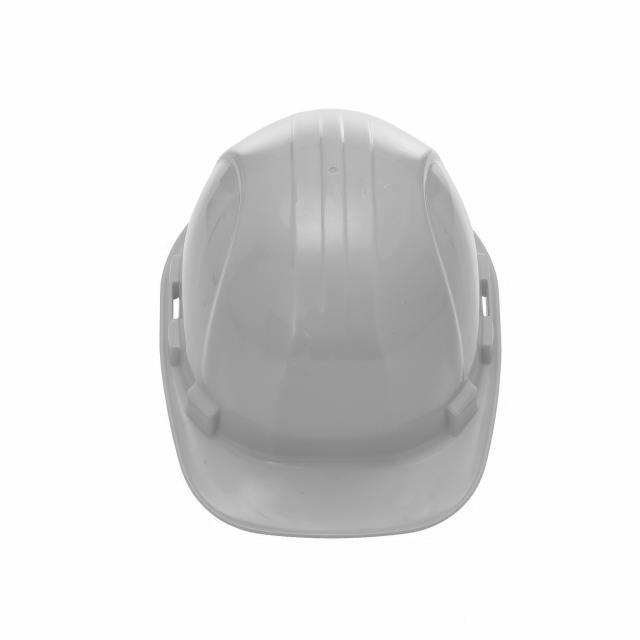safety_helmet: (157, 109, 503, 540)
